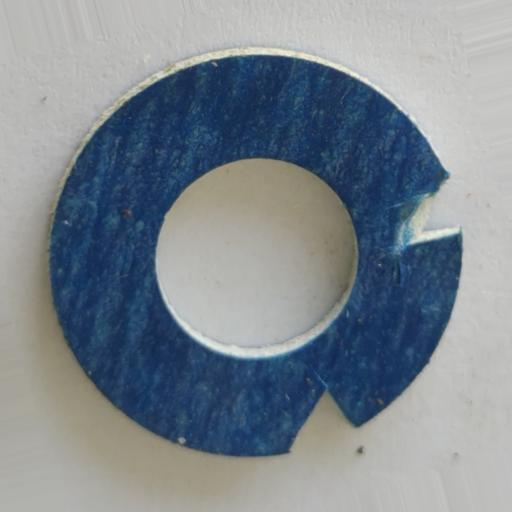defect: (394, 173, 464, 253), (286, 384, 358, 454)
